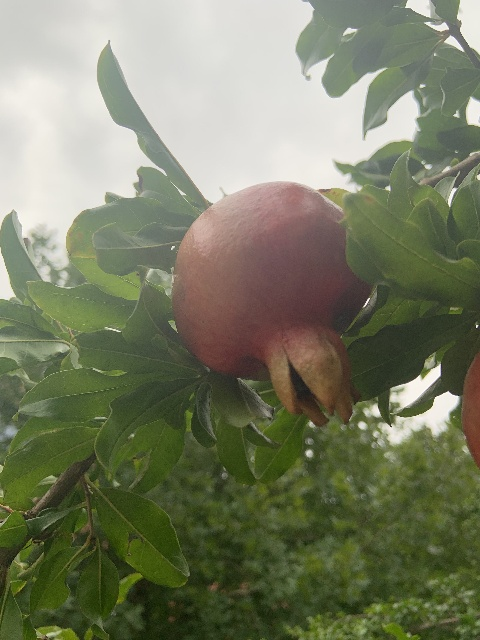ripe: (172, 182, 373, 425)
